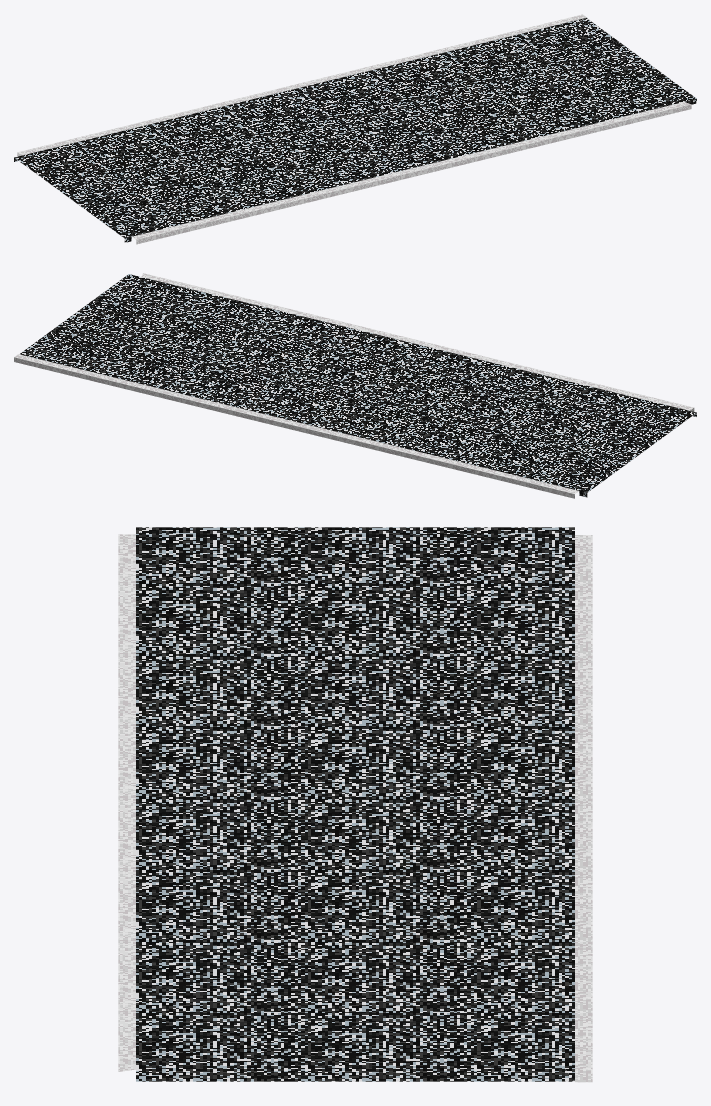
File: BGN-STREET MODULE.fbx
The picture shows the model from 3 angles, top to bottom: view 1: azimuth 30°, elevation 25°; view 2: azimuth 150°, elevation 25°; view 3: azimuth 270°, elevation 25°; orthographic projection. The views are drawn at different scales.
Parts seen in each view (by area): view 1: BGN_STREET_MODULE; view 2: BGN_STREET_MODULE; view 3: BGN_STREET_MODULE.
Boxes of the visible parts, box(x1,y1,x2,y2) form: BGN_STREET_MODULE: box(14, 14, 696, 244); BGN_STREET_MODULE: box(14, 273, 696, 498); BGN_STREET_MODULE: box(118, 527, 592, 1082).
Bounding box in the file's own units: 3104 × 24.17 × 1121.
